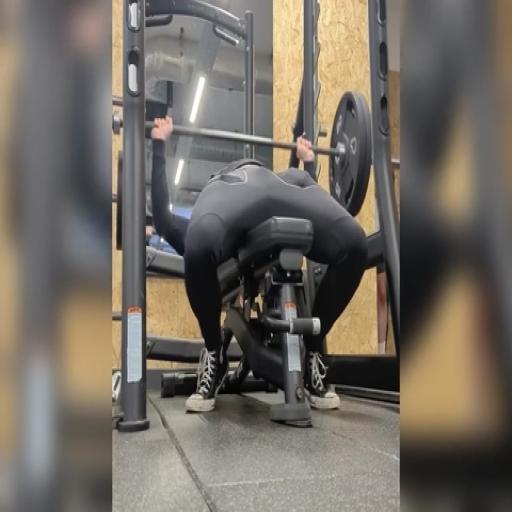exercise: (148, 112, 371, 417)
